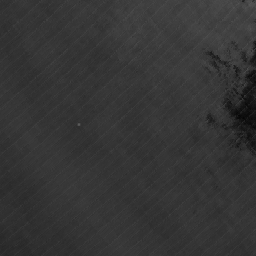Target: (75, 121, 80, 127)
